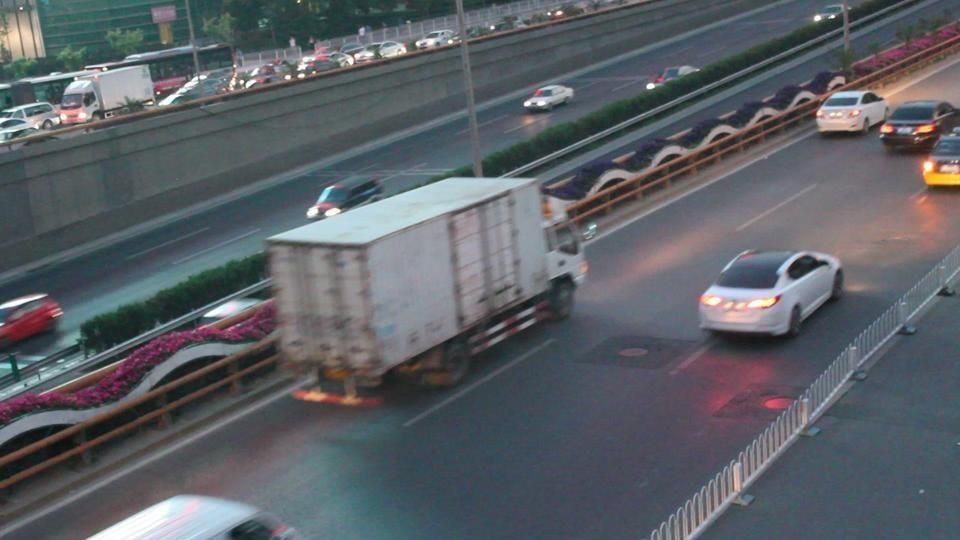car: (697, 249, 845, 340), (83, 493, 304, 539), (878, 99, 960, 152), (0, 292, 62, 348), (306, 175, 383, 219), (816, 90, 887, 137), (162, 71, 233, 108), (920, 132, 960, 190), (2, 102, 61, 132), (644, 65, 702, 91), (523, 84, 573, 112), (299, 53, 353, 78), (351, 42, 406, 65), (243, 66, 289, 90), (0, 117, 38, 143), (416, 30, 460, 50)
